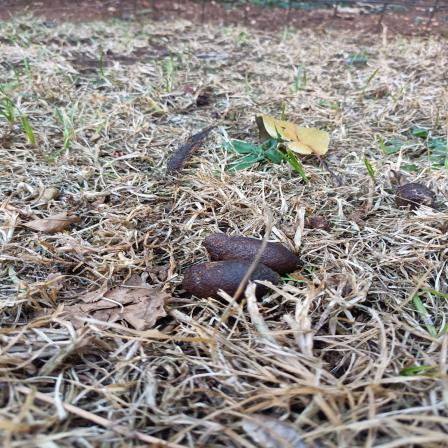dog-poop: (181, 220, 301, 304), (387, 173, 446, 212)
